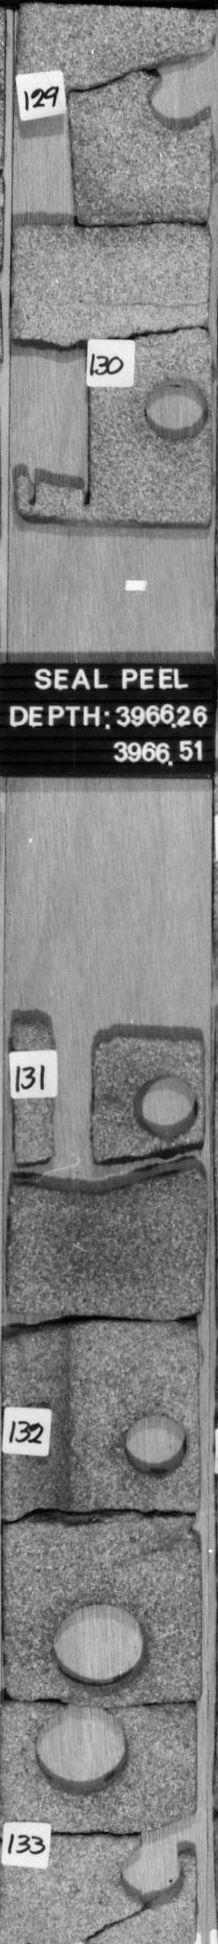hplug: (110, 1407, 200, 1481), (126, 1069, 204, 1147), (114, 1837, 194, 1913), (136, 371, 218, 443), (138, 75, 218, 130)
scal: (46, 1593, 154, 1695), (28, 1701, 138, 1797)
vplug: (8, 329, 104, 513), (1, 1313, 84, 1517), (10, 67, 88, 235), (36, 1031, 112, 1177)
